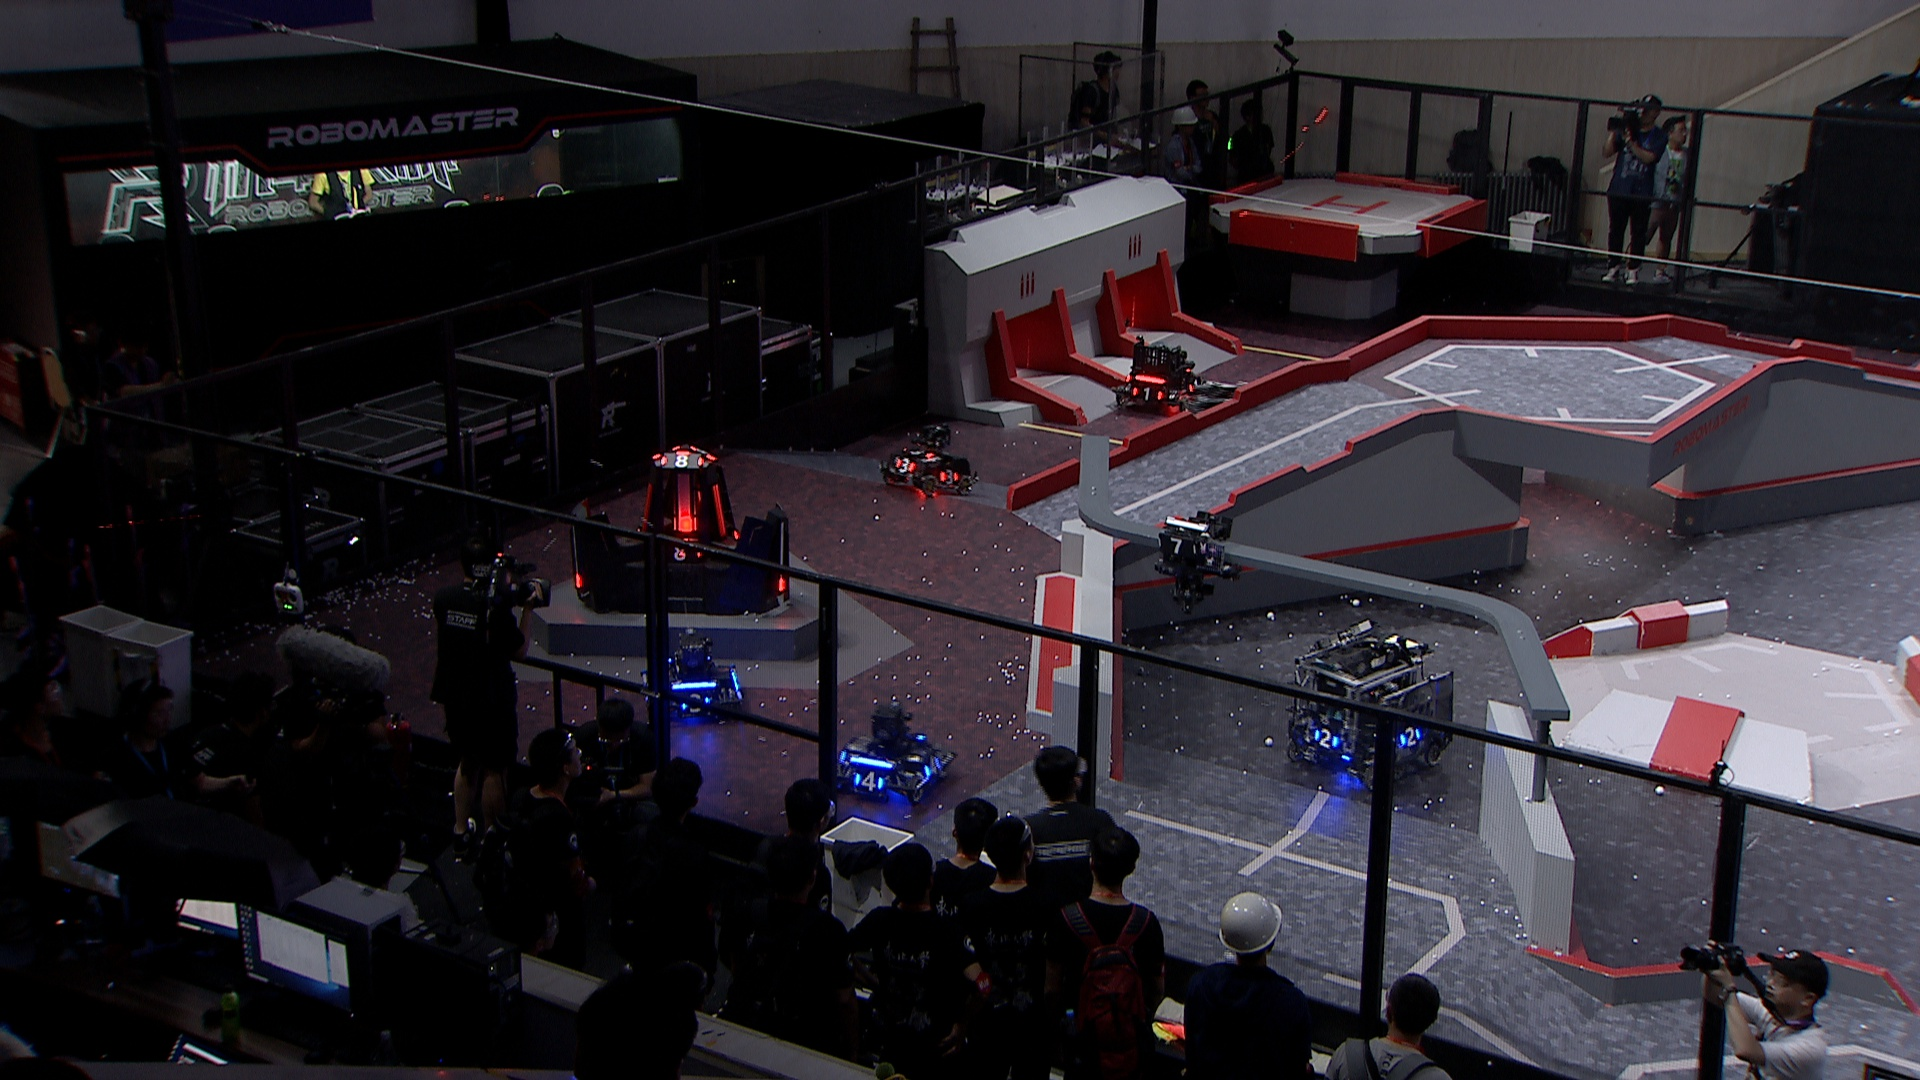armor: (709, 480, 728, 541), (1154, 534, 1197, 559), (676, 690, 713, 716), (638, 480, 655, 533), (1309, 727, 1342, 752), (657, 454, 705, 469), (851, 770, 884, 793), (671, 508, 698, 535), (666, 545, 702, 564), (1396, 727, 1423, 750), (1130, 385, 1163, 404), (920, 756, 944, 781), (902, 447, 934, 460), (939, 467, 959, 485), (894, 458, 916, 473), (1185, 377, 1203, 396), (774, 572, 789, 593), (572, 568, 585, 589)
base: (564, 442, 793, 617)
car: (1287, 618, 1458, 790), (828, 698, 955, 806), (636, 626, 745, 727), (1178, 377, 1284, 475), (1112, 334, 1207, 414), (877, 425, 978, 500)
watcher: (1149, 510, 1240, 613)
